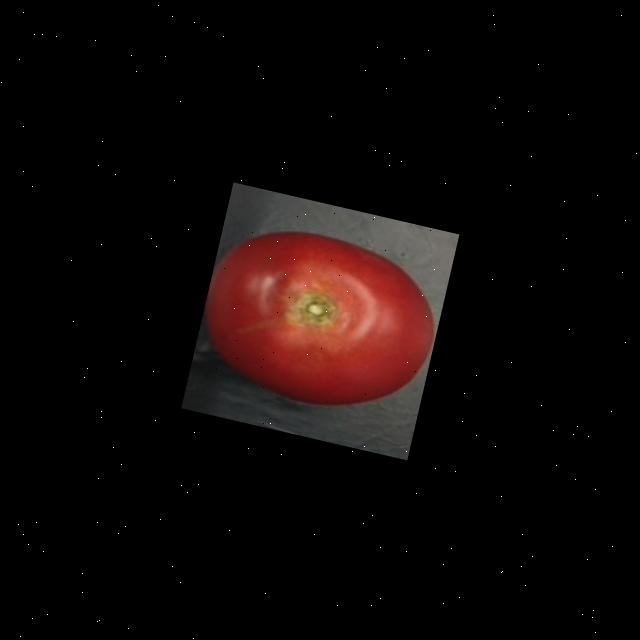tomato: (188, 210, 452, 431)
